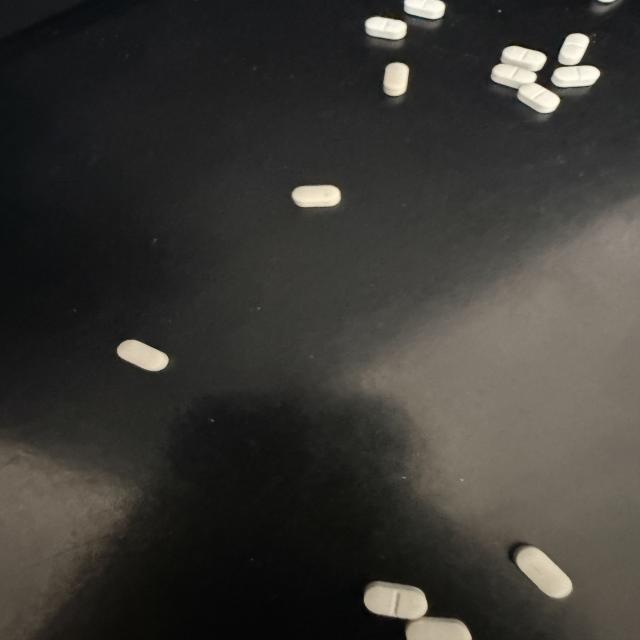pill: (514, 546, 572, 598), (364, 582, 427, 619), (117, 340, 168, 371), (406, 617, 471, 639), (518, 84, 560, 113), (501, 46, 546, 71), (491, 64, 536, 88), (292, 185, 340, 207), (551, 66, 600, 87), (559, 34, 589, 65), (365, 17, 407, 39), (383, 63, 409, 96), (404, 0, 445, 19), (599, 0, 614, 3)
